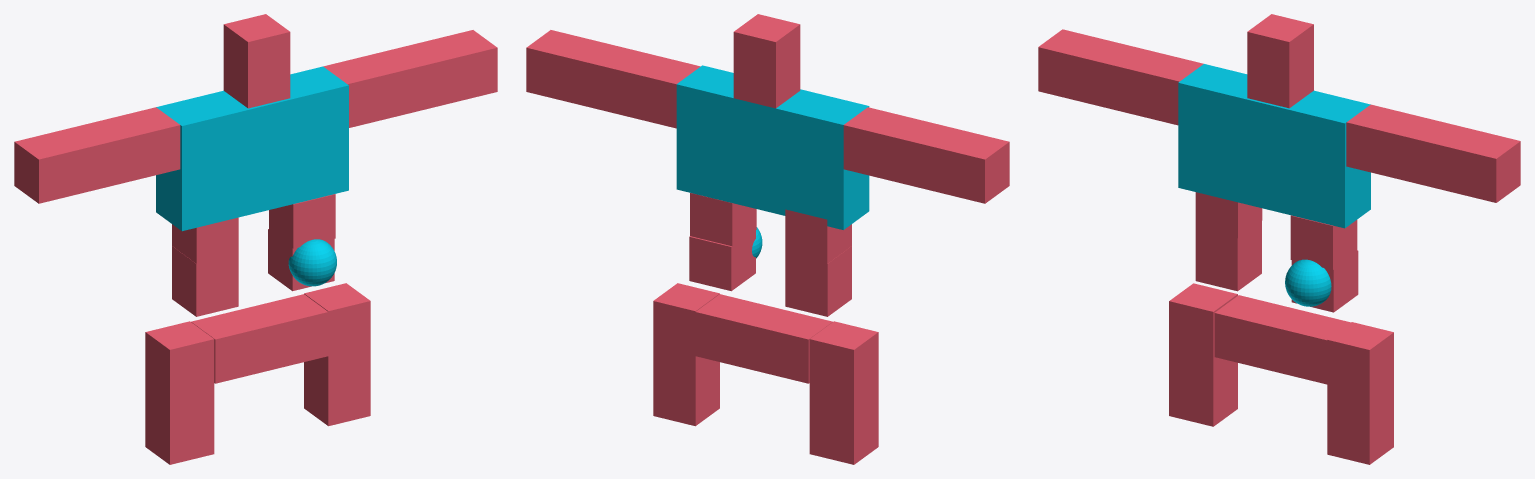
Rendered from NathanSoccerGuy.gltf.
The picture shows the model from 3 angles, left to right: view 1: azimuth 30°, elevation 25°; view 2: azimuth 150°, elevation 25°; view 3: azimuth 330°, elevation 25°; orthographic projection.
Visible parts, largest first — view 1: group_0_15277357, group_0_40919; view 2: group_0_15277357, group_0_40919; view 3: group_0_15277357, group_0_40919.
Part boxes in pixels (box(x1,y1,x2,y2)): group_0_15277357: box(14, 14, 497, 464); group_0_40919: box(156, 66, 348, 286); group_0_15277357: box(526, 14, 1009, 464); group_0_40919: box(676, 65, 869, 258); group_0_15277357: box(1038, 14, 1520, 464); group_0_40919: box(1178, 64, 1370, 306).
Bounding box in the file's own units: 217 × 182 × 31.
